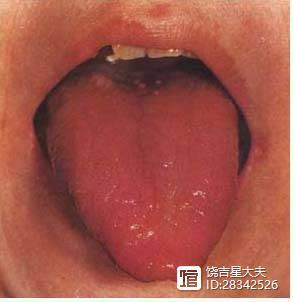hongshe: (46, 65, 239, 283)
